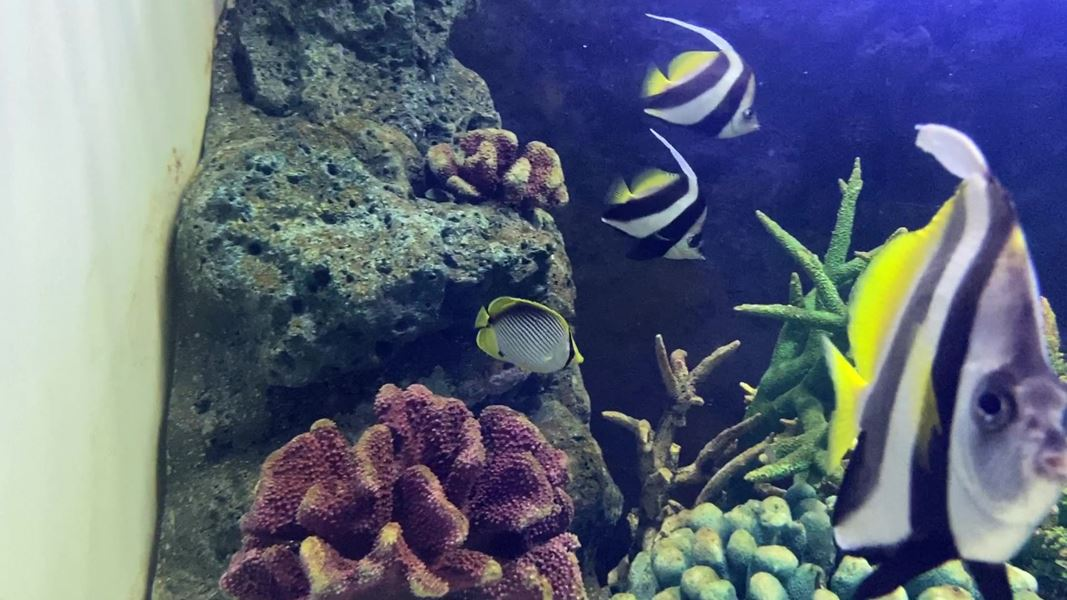Black-backed butterflyfish: (457, 293, 592, 380)
